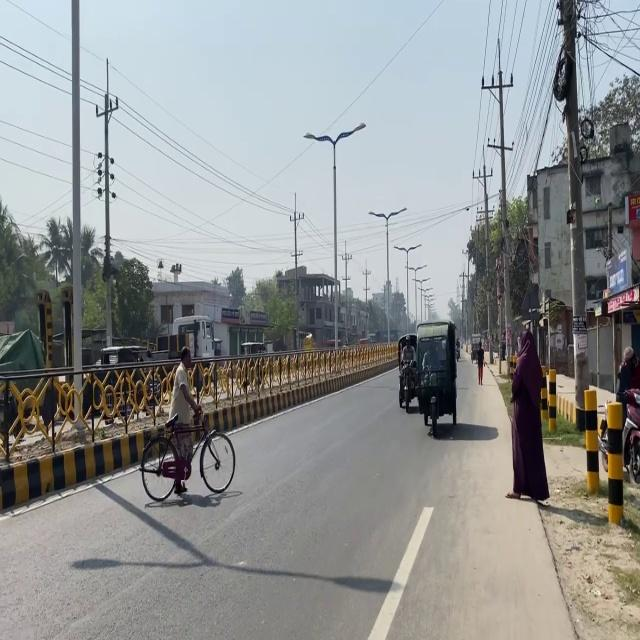Bench: (548, 354, 630, 522)
Fallen-tree: (597, 387, 639, 484), (397, 358, 417, 410)
Garbage-bin: (504, 329, 550, 503), (166, 346, 203, 493)
Light-pole: (556, 8, 602, 382), (69, 0, 83, 422)
Pothole: (488, 353, 639, 638)
